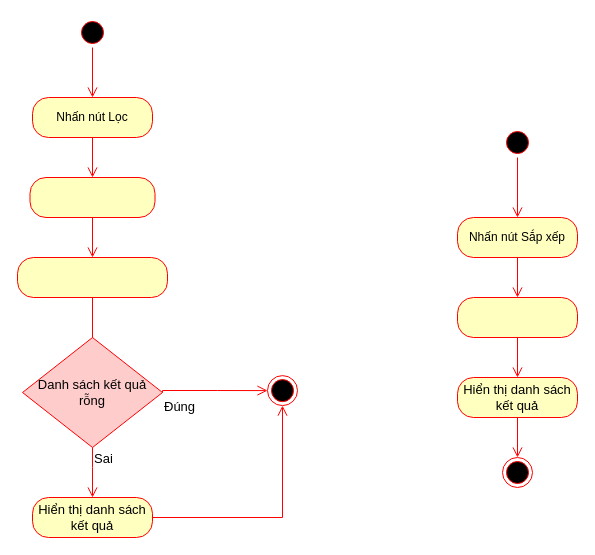
This 595x555 diagram has some shape labels left out. The shapes that lost their labels are listed below. From the top down, each one's centre as x and y in pixels, then its label:
At (92,197): "Chọn các tiêu chí lọc".
At (92,277): "Lấy danh sách sản phẩm theo tiêu chí lọc".
At (517,317): "Chọn tiêu chí sắp xếp".
